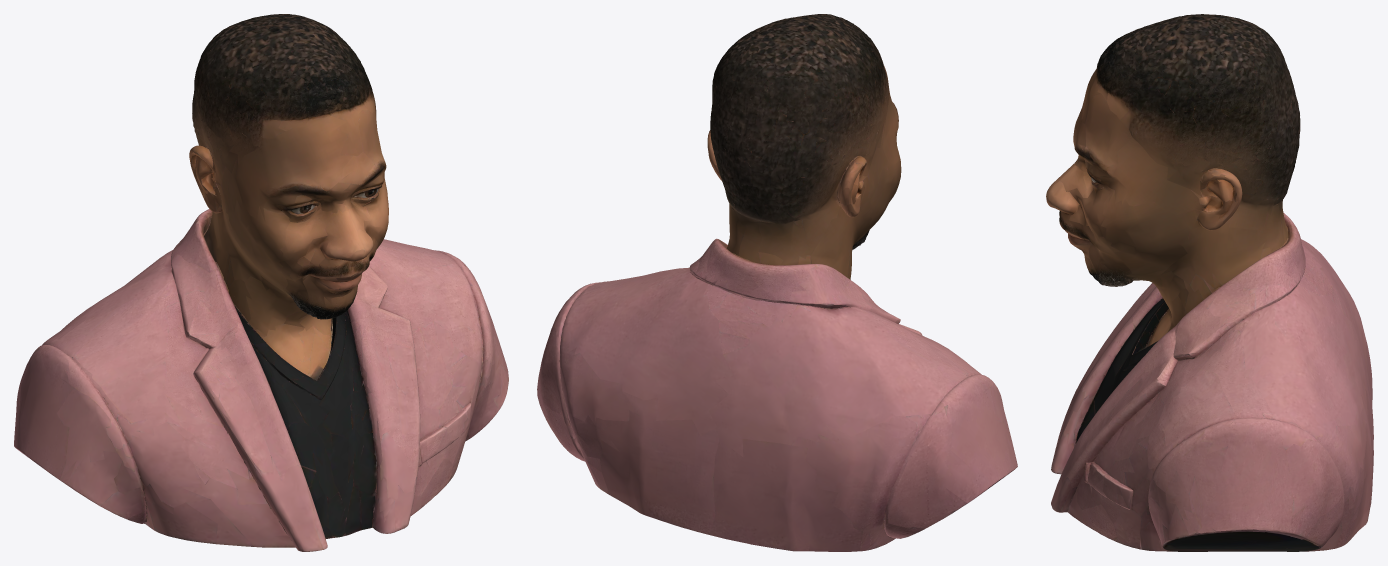
The model's file is chris-head.glb.
3 views of the same model, side by side, from view 1: azimuth 30°, elevation 25°; view 2: azimuth 150°, elevation 25°; view 3: azimuth 270°, elevation 25° (orthographic). The views are drawn at different scales.
Parts seen in each view (by area): view 1: Chris_Head; view 2: Chris_Head; view 3: Chris_Head.
Part boxes in pixels (bbox=[...]): Chris_Head: bbox=[14, 14, 508, 551]; Chris_Head: bbox=[537, 14, 1017, 551]; Chris_Head: bbox=[1046, 14, 1373, 551].
Size of the model in its own units: 1.9 by 1.81 by 1.15.
1 material, 1 textured.
